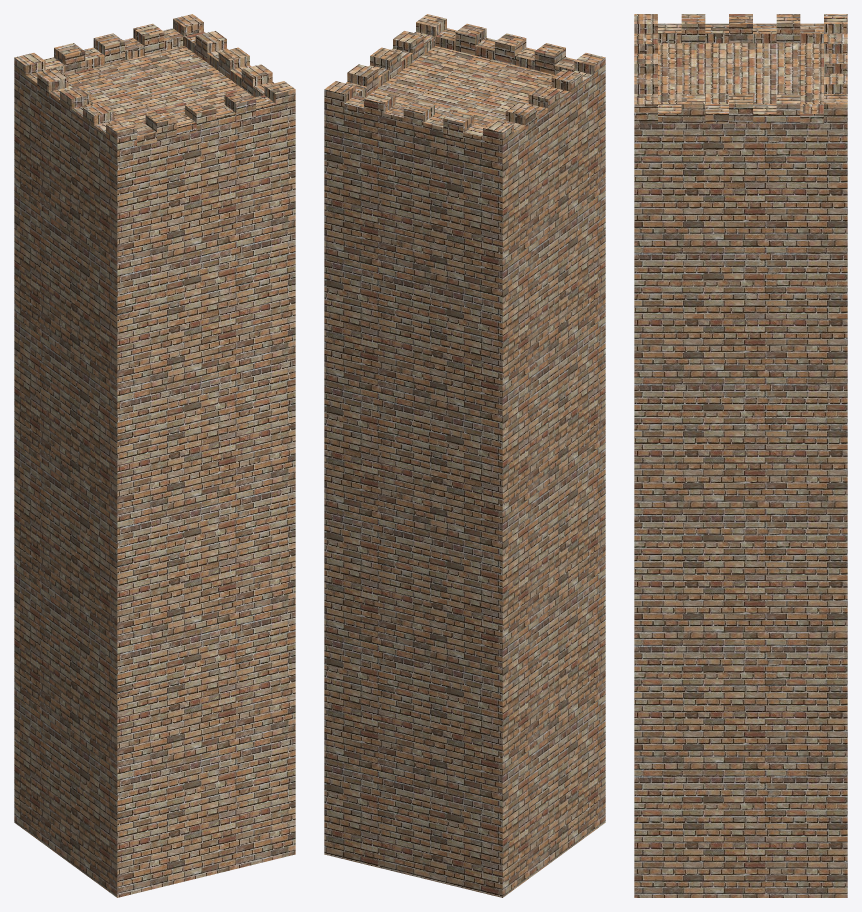
File: tou2.fbx
3 renders of one model, left to right at view 1: azimuth 30°, elevation 25°; view 2: azimuth 150°, elevation 25°; view 3: azimuth 270°, elevation 25°, orthographic. The views are drawn at different scales.
Parts seen in each view (by area): view 1: pCube1; view 2: pCube1; view 3: pCube1.
Boxes of the visible parts, box(x1,y1,x2,y2) form: pCube1: box(14, 14, 295, 897); pCube1: box(324, 14, 605, 897); pCube1: box(634, 14, 847, 897).
Size of the model in its own units: 20 by 82 by 20.
1 material, 1 textured.
